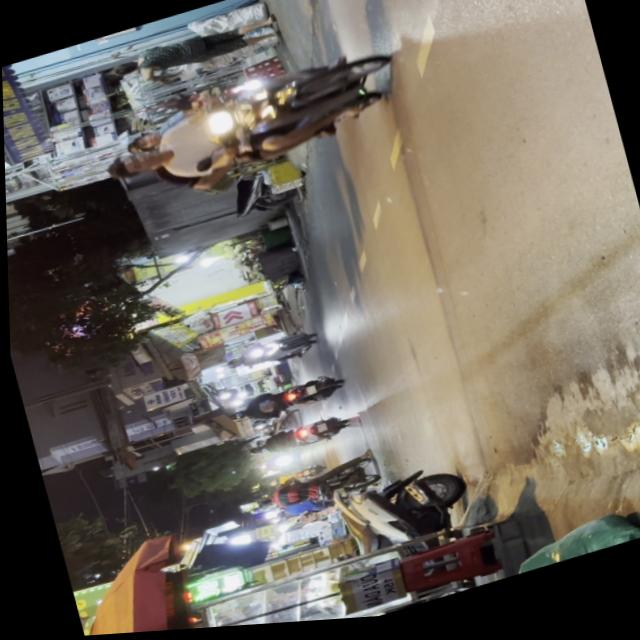helmet: (118, 129, 160, 157)
licenseplate: (90, 40, 407, 208)
motorcyclist: (101, 144, 162, 185)
